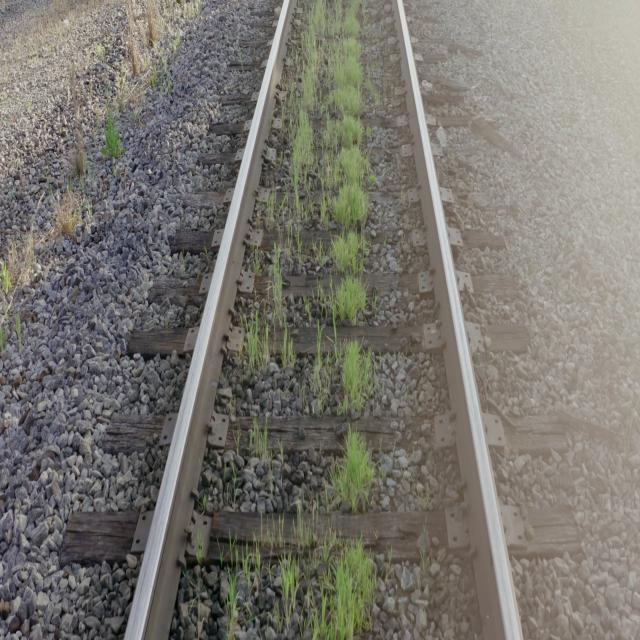Plant: (242, 0, 375, 416), (270, 542, 376, 640), (321, 427, 375, 513), (220, 562, 270, 638), (249, 424, 270, 462)
